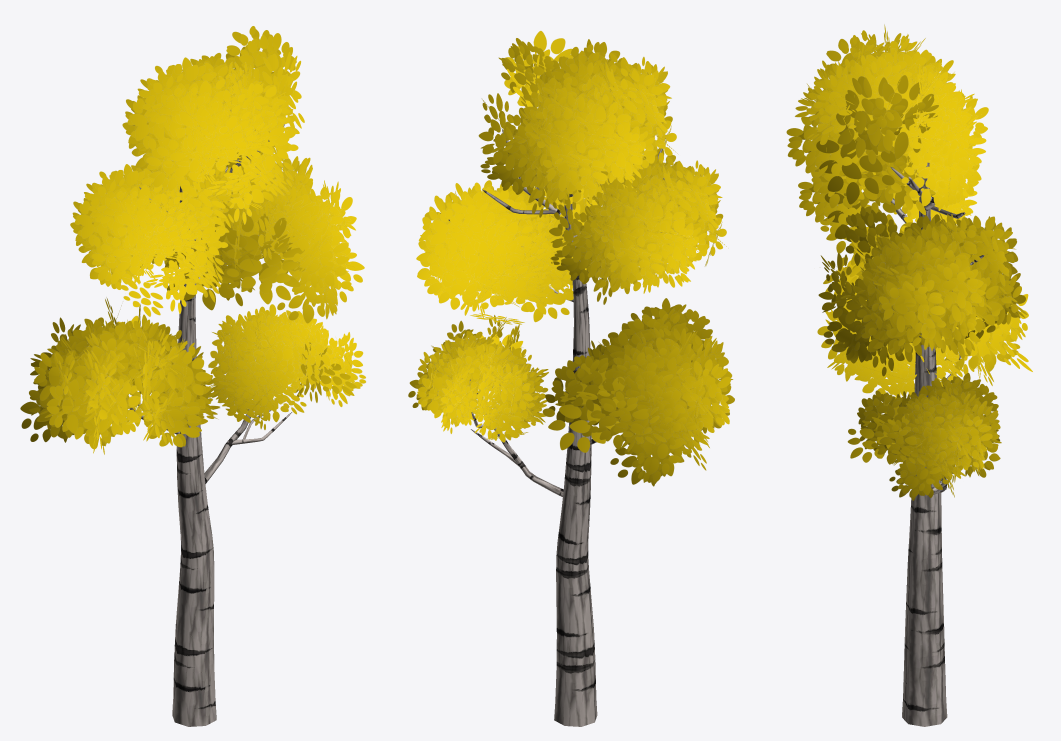
The model's file is BirchTree_1.gltf.
The picture shows the model from 3 angles, left to right: view 1: azimuth 30°, elevation 25°; view 2: azimuth 150°, elevation 25°; view 3: azimuth 270°, elevation 25°; orthographic projection. The views are drawn at different scales.
Visible parts, largest first — view 1: BirchTree_1; view 2: BirchTree_1; view 3: BirchTree_1.
Boxes of the visible parts, x1,y1,x2,y2 form: BirchTree_1: (20, 26, 365, 726); BirchTree_1: (408, 30, 734, 726); BirchTree_1: (786, 24, 1032, 726).
Size of the model in its own units: 2.71 by 5.45 by 1.94.
Materials: 2 (2 with a texture image).
